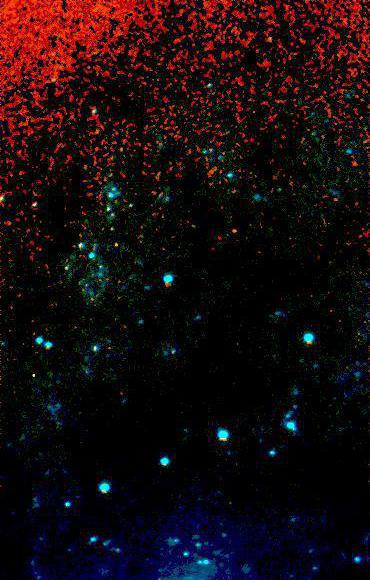star: (339, 149, 369, 179)
